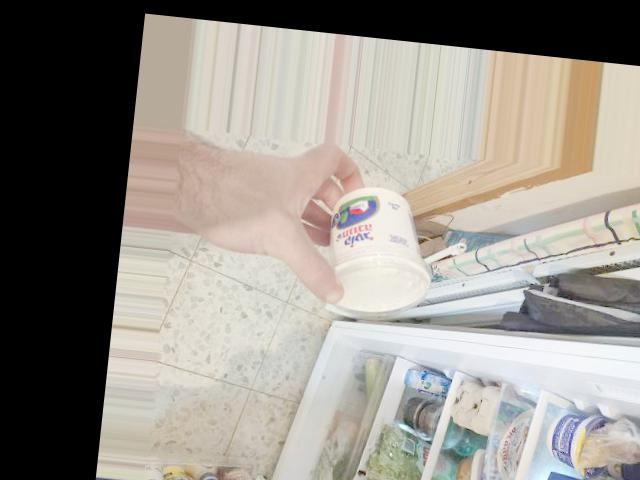cotage: (313, 182, 435, 315)
